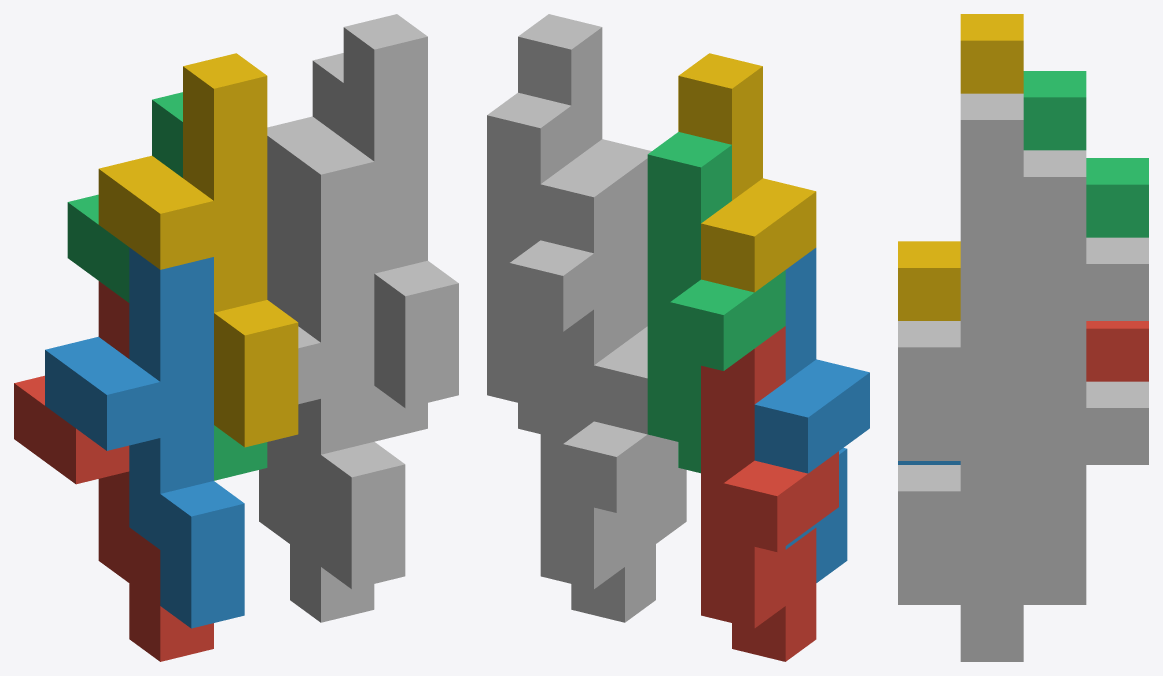
Rendered from tiling.obj.
The picture shows the model from 3 angles, left to right: view 1: azimuth 30°, elevation 25°; view 2: azimuth 150°, elevation 25°; view 3: azimuth 270°, elevation 25°; orthographic projection.
Parts seen in each view (by area): view 1: copy_1_domain_2, copy_1_domain_4, copy_1_domain_8, copy_1_domain_6, copy_1_domain_1, copy_1_domain_5, copy_1_domain_3, copy_1_domain_7; view 2: copy_1_domain_1, copy_1_domain_5, copy_1_domain_3, copy_1_domain_7, copy_1_domain_4, copy_1_domain_8, copy_1_domain_2, copy_1_domain_6; view 3: copy_1_domain_7, copy_1_domain_8, copy_1_domain_5, copy_1_domain_6, copy_1_domain_4, copy_1_domain_3, copy_1_domain_1.
Boxes of the visible parts, left/top/right/bottom form: copy_1_domain_2: left=45, top=247, right=244, bottom=628; copy_1_domain_4: left=98, top=53, right=298, bottom=447; copy_1_domain_8: left=267, top=14, right=458, bottom=408; copy_1_domain_6: left=290, top=208, right=405, bottom=589; copy_1_domain_1: left=14, top=281, right=213, bottom=661; copy_1_domain_5: left=259, top=248, right=374, bottom=622; copy_1_domain_3: left=67, top=92, right=267, bottom=480; copy_1_domain_7: left=267, top=53, right=427, bottom=441; copy_1_domain_1: left=701, top=326, right=838, bottom=661; copy_1_domain_5: left=540, top=287, right=678, bottom=622; copy_1_domain_3: left=647, top=132, right=785, bottom=473; copy_1_domain_7: left=487, top=92, right=624, bottom=433; copy_1_domain_4: left=678, top=53, right=816, bottom=292; copy_1_domain_8: left=518, top=14, right=651, bottom=253; copy_1_domain_2: left=754, top=248, right=869, bottom=582; copy_1_domain_6: left=594, top=214, right=686, bottom=543; copy_1_domain_7: left=960, top=150, right=1148, bottom=517; copy_1_domain_8: left=898, top=93, right=1023, bottom=460; copy_1_domain_5: left=960, top=381, right=1148, bottom=661; copy_1_domain_6: left=898, top=465, right=1023, bottom=604; copy_1_domain_4: left=898, top=14, right=1023, bottom=320; copy_1_domain_3: left=1023, top=71, right=1148, bottom=237; copy_1_domain_1: left=1086, top=321, right=1148, bottom=381.
Bounding box in the file's own units: 6 × 10 × 4.
